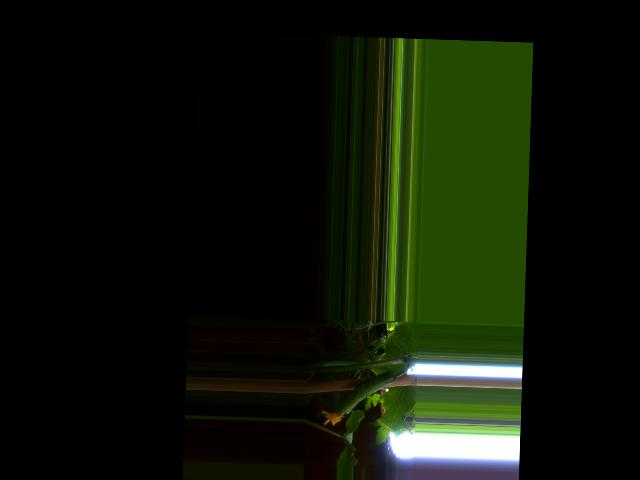cucumber: (320, 369, 396, 428)
